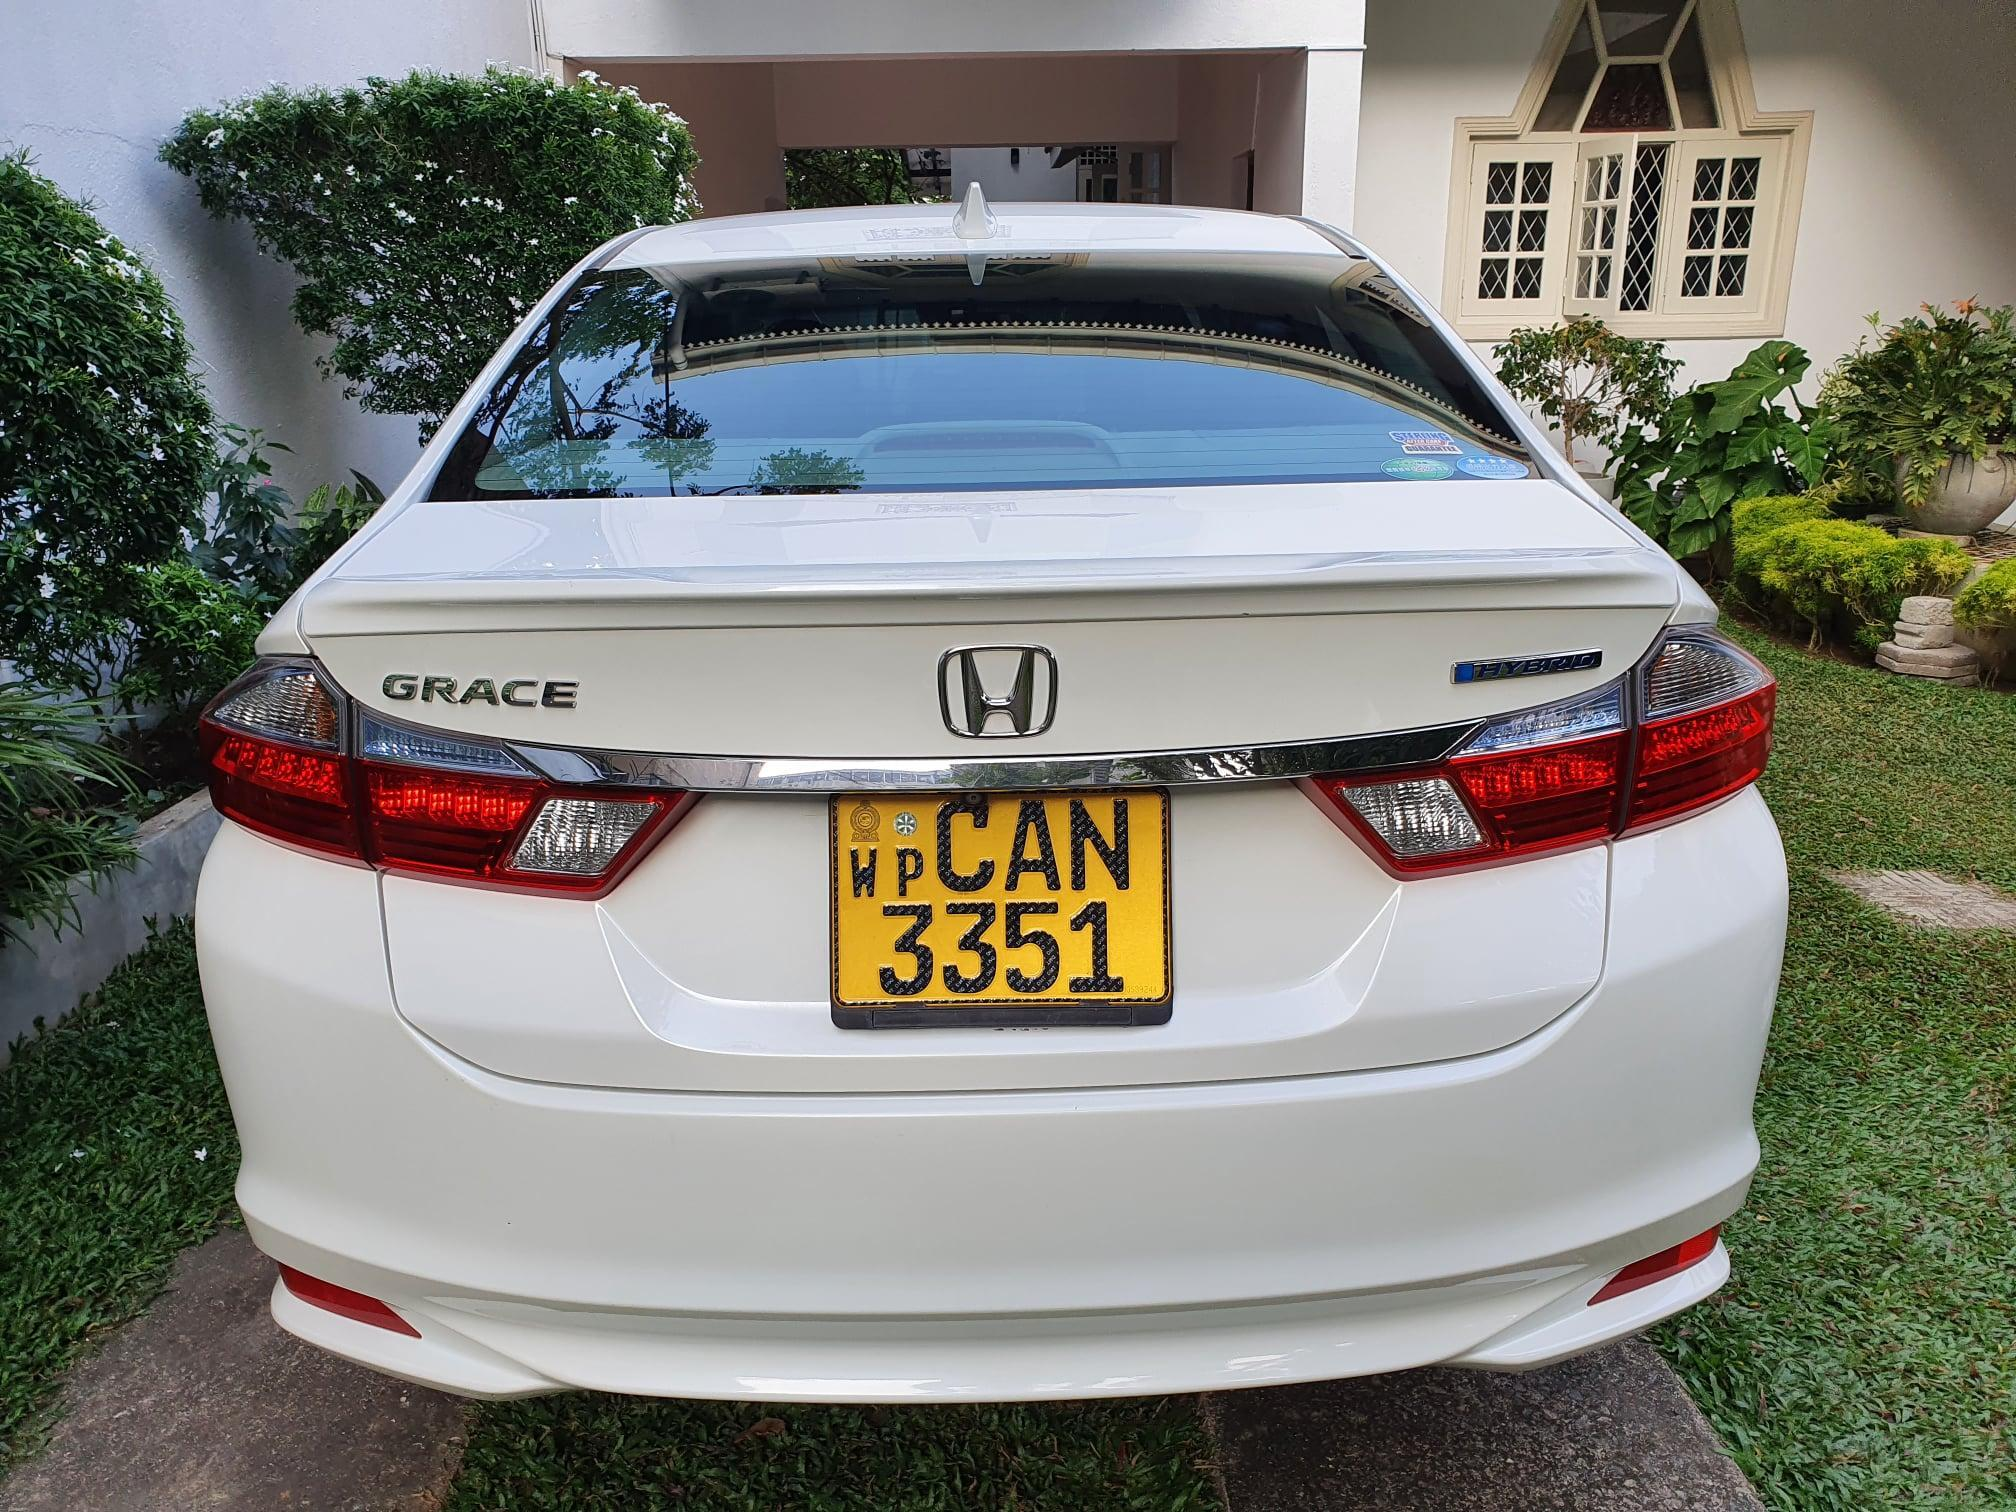license-plate: (831, 795, 1165, 1001)
